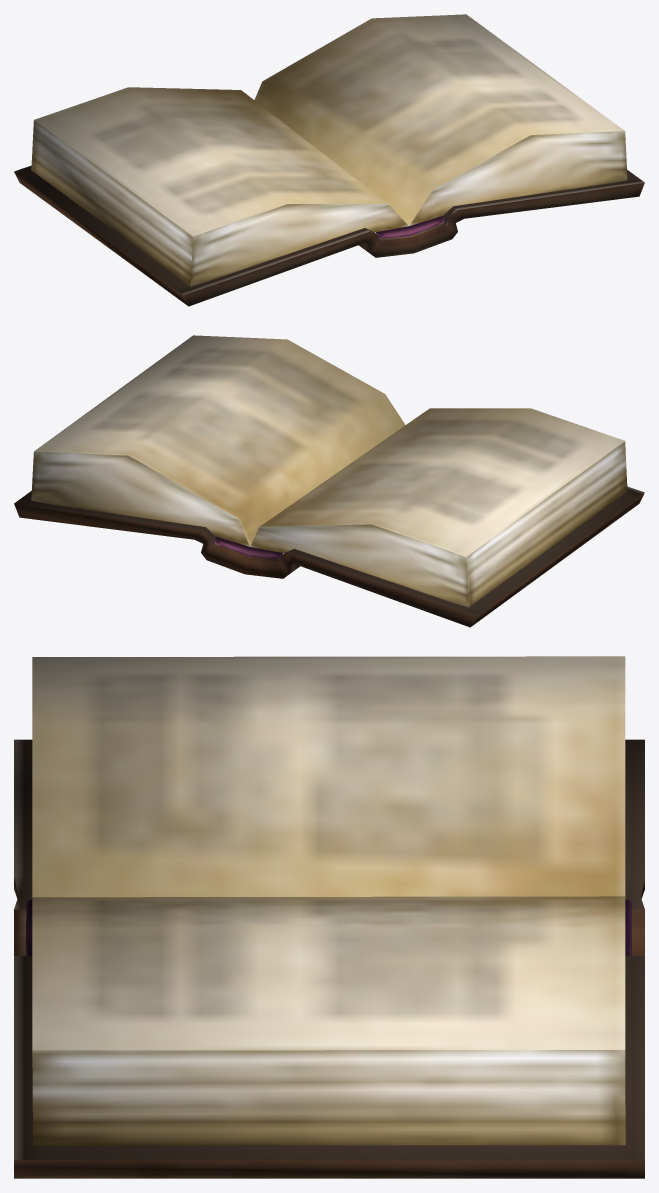
The model's file is a_SCbook01.glb.
3 renders of one model, top to bottom at view 1: azimuth 30°, elevation 25°; view 2: azimuth 150°, elevation 25°; view 3: azimuth 270°, elevation 25°, orthographic. The views are drawn at different scales.
Parts seen in each view (by area): view 1: a_SCbook01; view 2: a_SCbook01; view 3: a_SCbook01.
Part boxes in pixels (x1,y1,x2,y2): a_SCbook01: [14, 14, 644, 306]; a_SCbook01: [14, 335, 644, 627]; a_SCbook01: [14, 656, 644, 1178].
Bounding box in the file's own units: 0.5852 × 0.1034 × 0.3713.
1 material, 1 textured.
